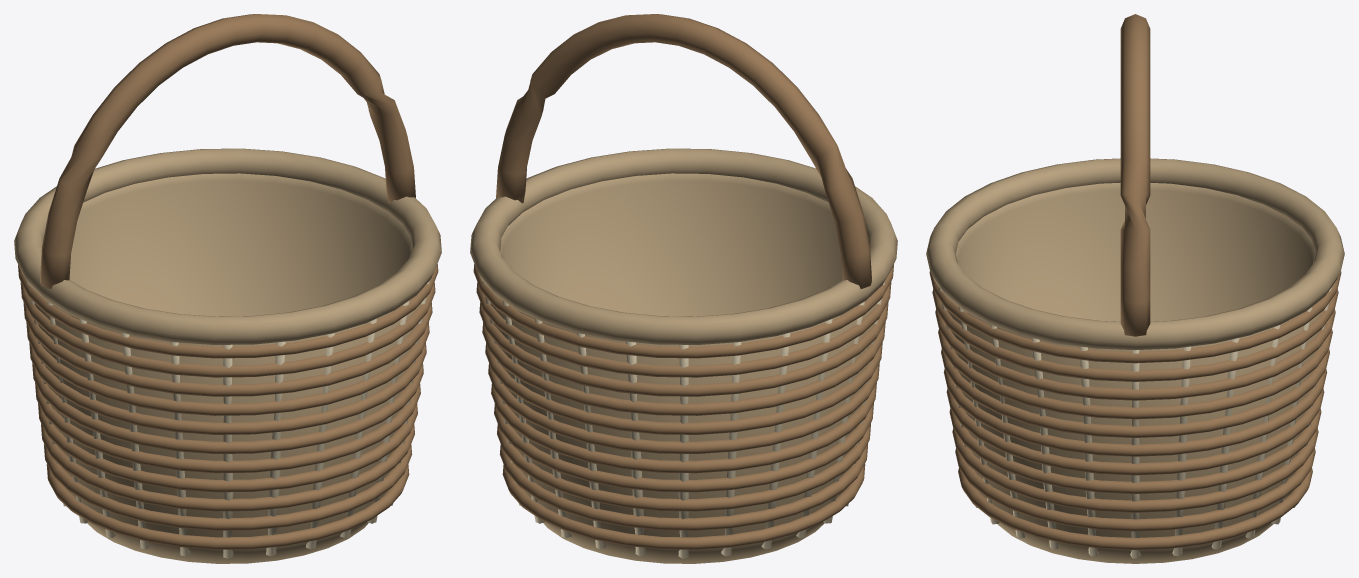
File: woven-basket.glb
3 views of the same model, side by side, from view 1: azimuth 30°, elevation 25°; view 2: azimuth 150°, elevation 25°; view 3: azimuth 270°, elevation 25° (orthographic). The views are drawn at different scales.
Parts seen in each view (by area): view 1: woven-basket__Visual_matte; view 2: woven-basket__Visual_matte; view 3: woven-basket__Visual_matte.
Boxes of the visible parts, bbox=[...] form: woven-basket__Visual_matte: bbox=[14, 14, 441, 563]; woven-basket__Visual_matte: bbox=[470, 14, 897, 563]; woven-basket__Visual_matte: bbox=[926, 14, 1344, 563].
Bounding box in the file's own units: 0.7099 × 0.875 × 0.706.
